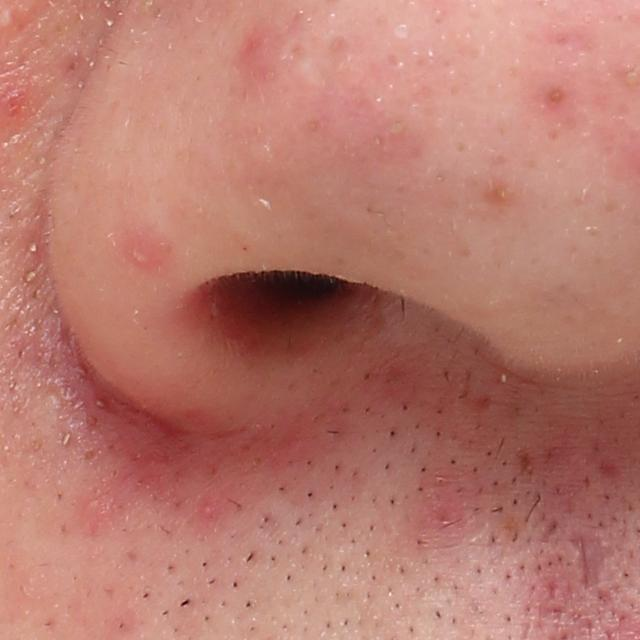atrophic_scar: (567, 533, 608, 587), (597, 460, 623, 482), (541, 517, 560, 544), (545, 576, 559, 602)
papule: (123, 235, 161, 270)
